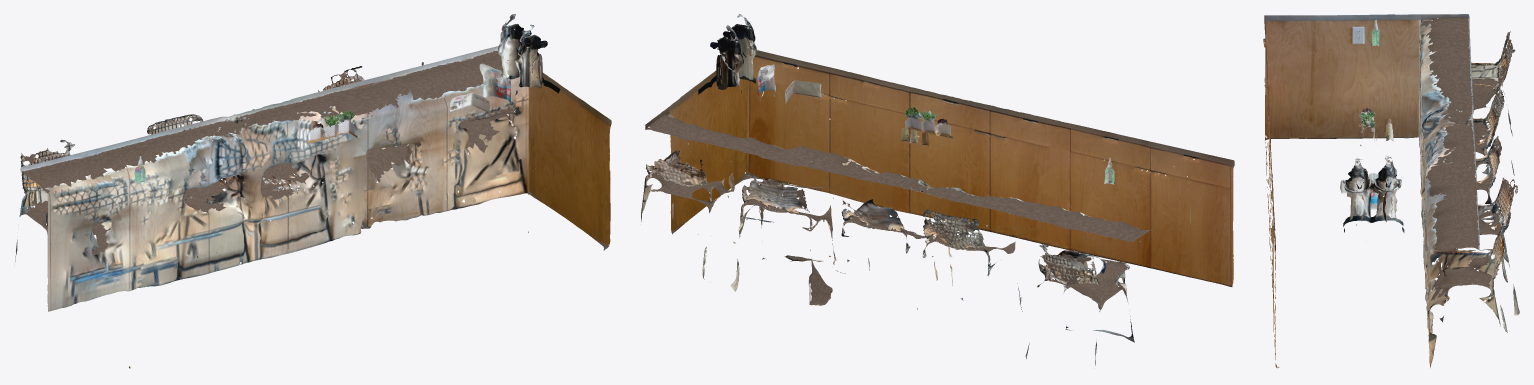
The model's file is kitchen_island_003.glb.
The picture shows the model from 3 angles, left to right: view 1: azimuth 30°, elevation 25°; view 2: azimuth 150°, elevation 25°; view 3: azimuth 270°, elevation 25°; orthographic projection. The views are drawn at different scales.
Parts seen in each view (by area): view 1: scan_1, scan_0 (×2), scan_2; view 2: scan_0 (×2), scan_1, scan_2; view 3: scan_0 (×2), scan_1, scan_2, scan_3.
Part boxes in pixels (box(x1,y1,x2,y2)): scan_1: box(19, 17, 610, 311); scan_0 (×2): box(16, 14, 611, 290); scan_2: box(15, 14, 610, 306); scan_0 (×2): box(645, 27, 1234, 335); scan_1: box(642, 18, 1233, 352); scan_2: box(641, 14, 1234, 365); scan_0 (×2): box(1263, 14, 1517, 368); scan_1: box(1264, 14, 1517, 367); scan_2: box(1263, 14, 1519, 355); scan_3: box(1264, 31, 1518, 367).
Bounding box in the file's own units: 3.27 × 1.29 × 1.52.
Materials: 4 (4 with a texture image).
